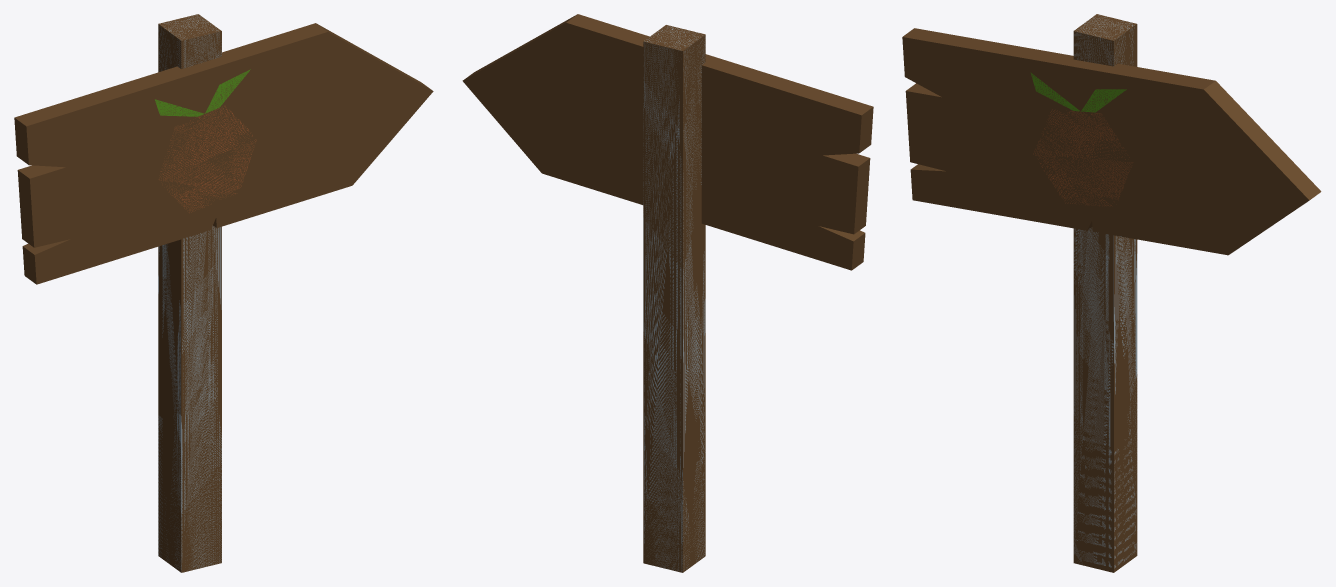
The model's file is Sign_Timber_Pumpkin_01.fbx.
3 renders of one model, left to right at view 1: azimuth 30°, elevation 25°; view 2: azimuth 150°, elevation 25°; view 3: azimuth 330°, elevation 25°, orthographic.
Parts seen in each view (by area): view 1: Model, Group1; view 2: Model, Group1; view 3: Model, Group1.
Boxes of the visible parts, x1,y1,x2,y2 form: Model: [14, 23, 433, 284]; Group1: [158, 14, 221, 572]; Model: [462, 14, 873, 270]; Group1: [643, 25, 705, 572]; Model: [902, 28, 1321, 255]; Group1: [1073, 14, 1137, 572].
Size of the model in its own units: 218 by 272 by 29.07.
